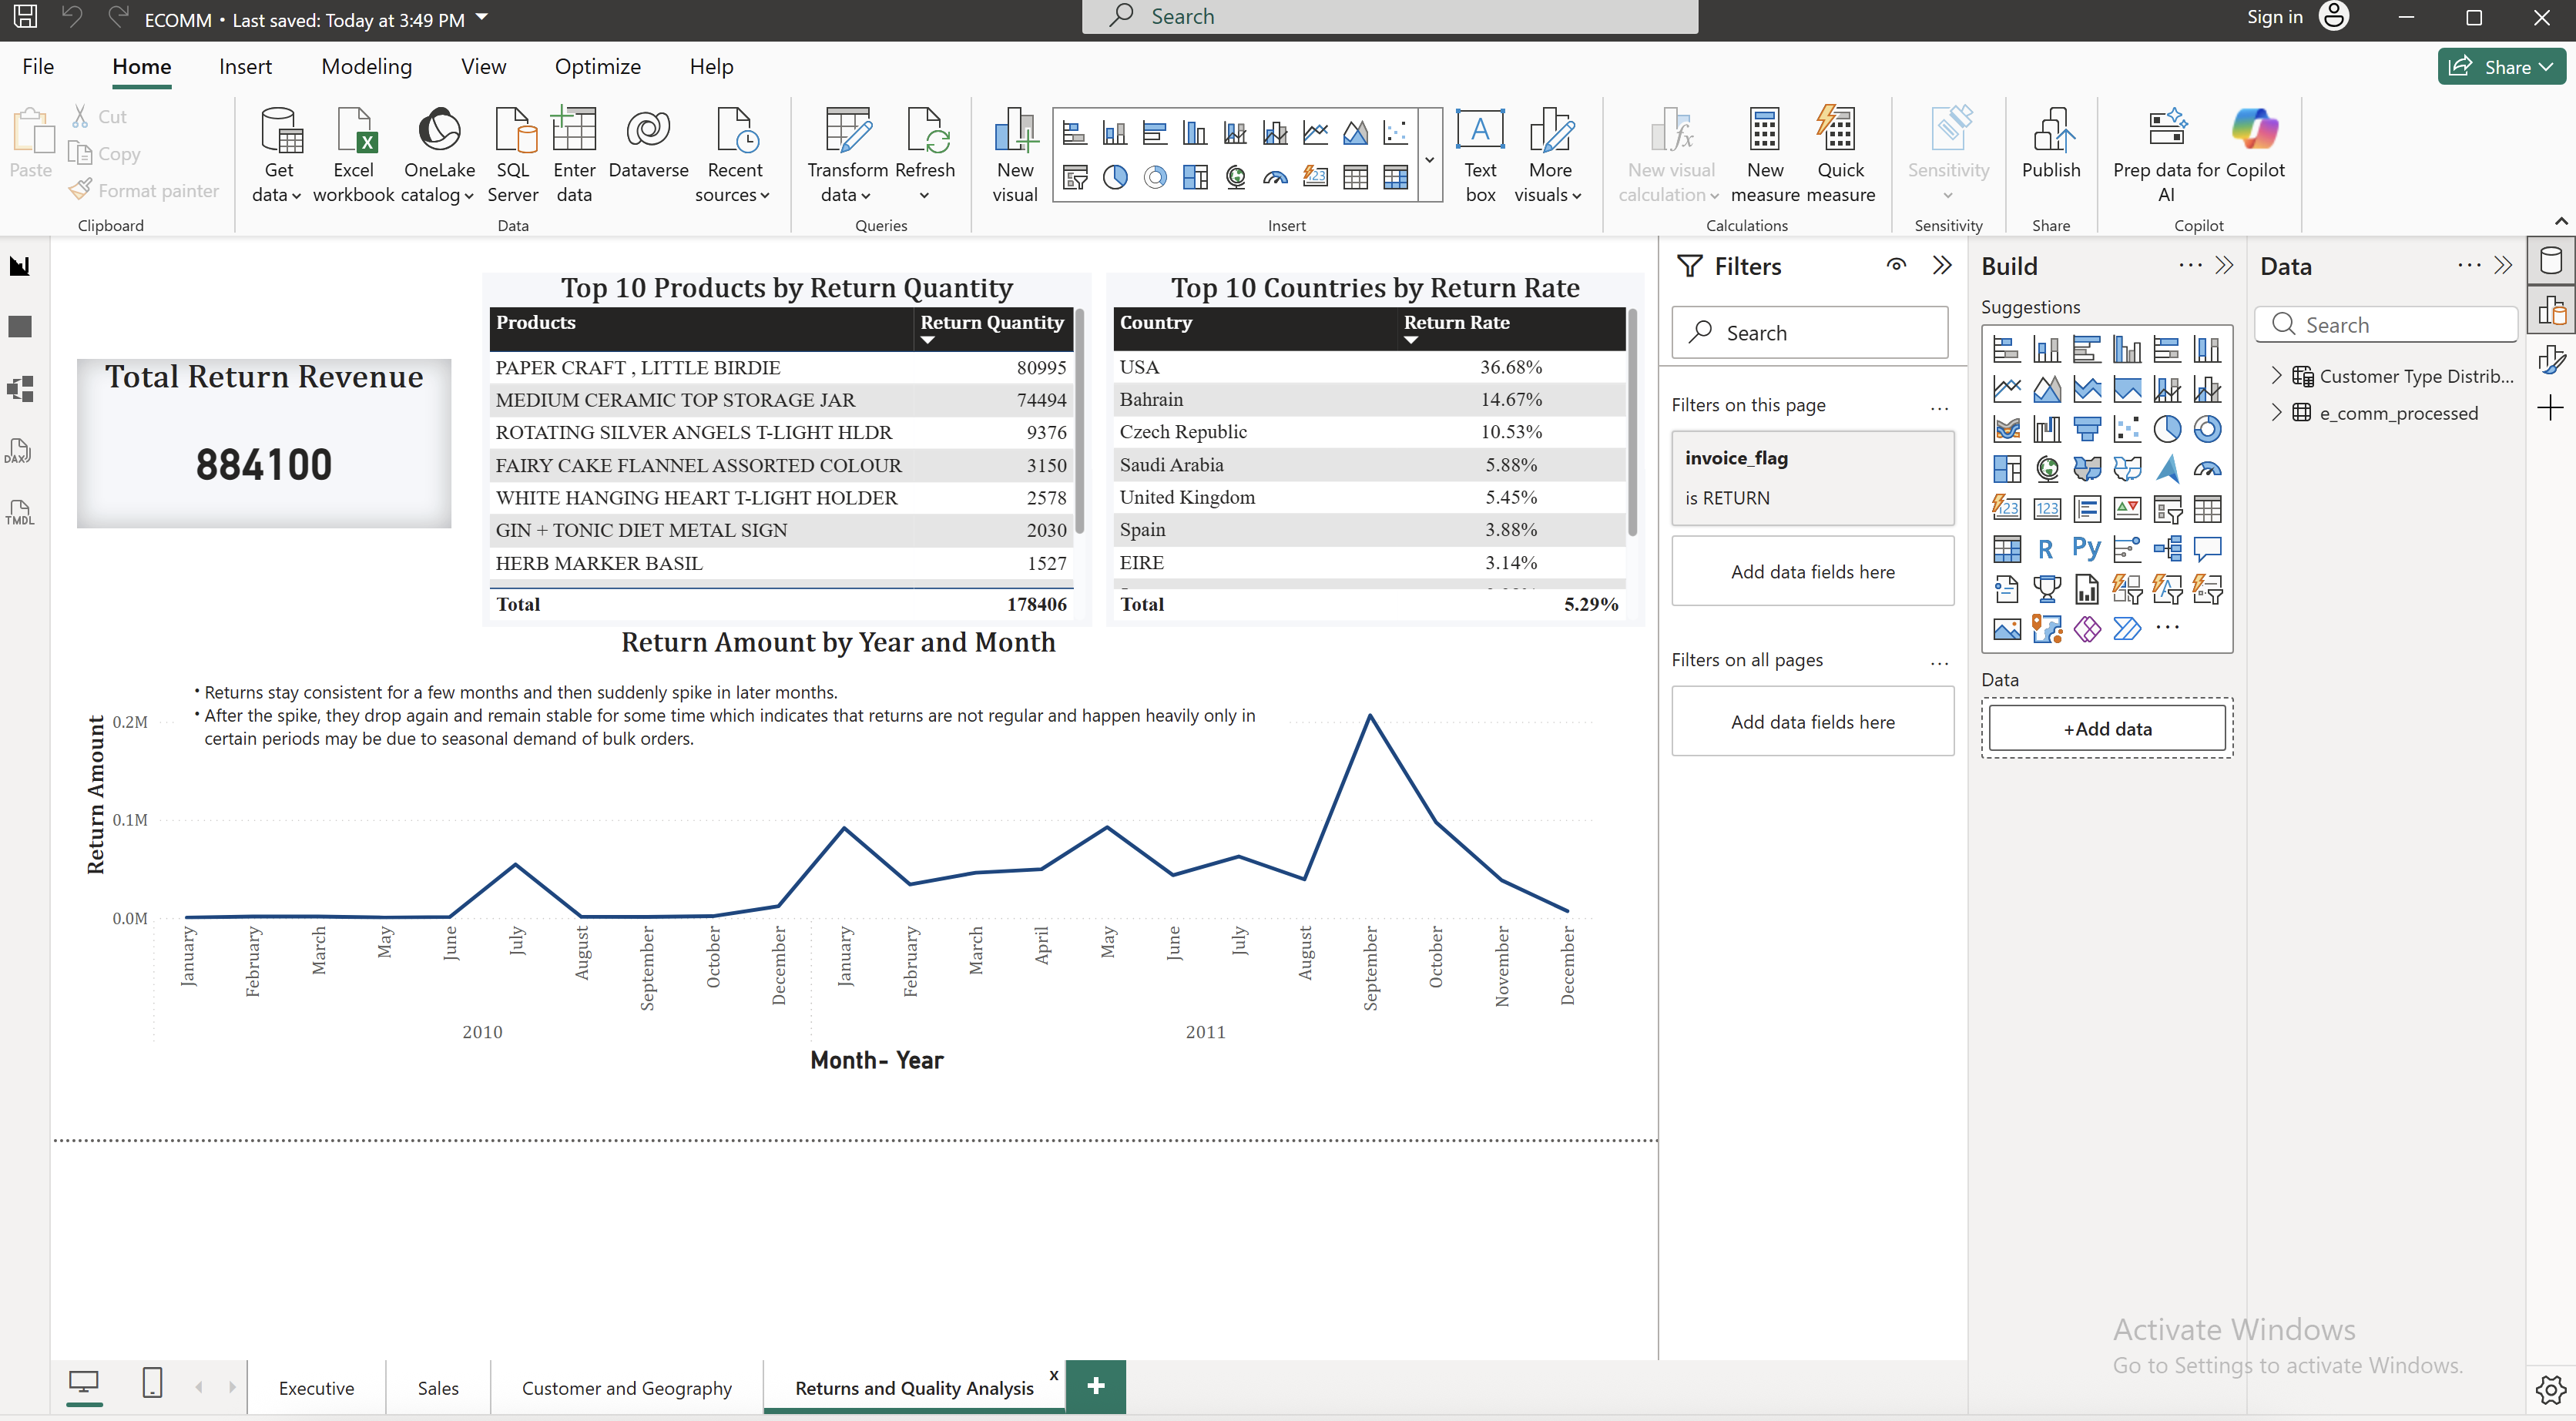

Layout of this report page (visuals, bound fields, positions):
{"tool":"powerbi","page":{"name":"Returns and Quality Analysis","canvas":[1280,720],"ordinal":3},"visuals":[{"type":"card","title":"Total Return Revenue","fields":{"Values":["e_comm_processed.Return Amount"]},"box":[20.8,98,298.5,135.1],"z":0},{"type":"lineChart","fields":{"Category":["e_comm_processed.invoice_dt.Variation.Date Hierarchy.Year","e_comm_processed.invoice_dt.Variation.Date Hierarchy.Month"],"Y":["e_comm_processed.Return Amount"]},"box":[20.8,311.8,1213.2,360.8],"z":1000},{"type":"tableEx","title":"Top 10 Products by Return Quantity","fields":{"Values":["e_comm_processed.products","e_comm_processed.Return Quantity"]},"box":[343,29.7,485.6,282.1],"z":2000},{"type":"tableEx","title":"Top 10 Countries by Return Rate","fields":{"Values":["e_comm_processed.country","e_comm_processed.Return Rate"]},"box":[840.5,29.7,429.1,282.1],"z":3000},{"type":"textbox","box":[99.5,349,885,66.8],"z":4000}]}

Visuals, with their boxes on the page's 1280x720 design canvas (x1, y1, x2, y2). These are canvas units, not pixel positions in the 2576x1421 screenshot, which may show the page scaled, cropped or inside an application window:
"Total Return Revenue" card: box=[21, 98, 319, 233]
lineChart - e_comm_processed.invoice_dt.Variation.Date Hierarchy.Year x e_comm_processed.invoice_dt.Variation.Date Hierarchy.Month: box=[21, 312, 1234, 673]
"Top 10 Products by Return Quantity" tableEx: box=[343, 30, 829, 312]
"Top 10 Countries by Return Rate" tableEx: box=[840, 30, 1270, 312]
textbox: box=[100, 349, 984, 416]
